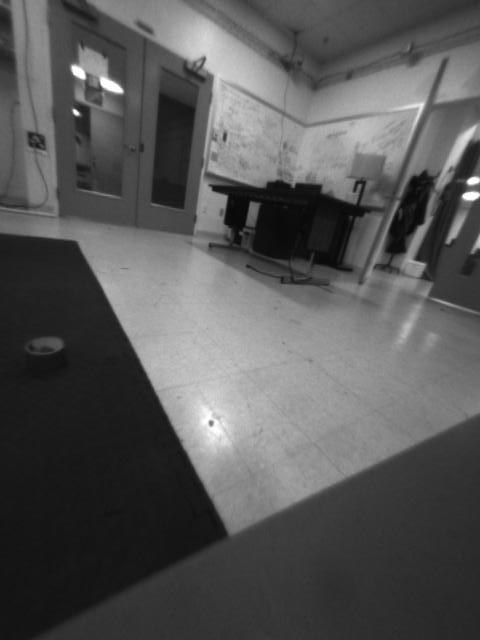dogtoy: (16, 327, 71, 371)
